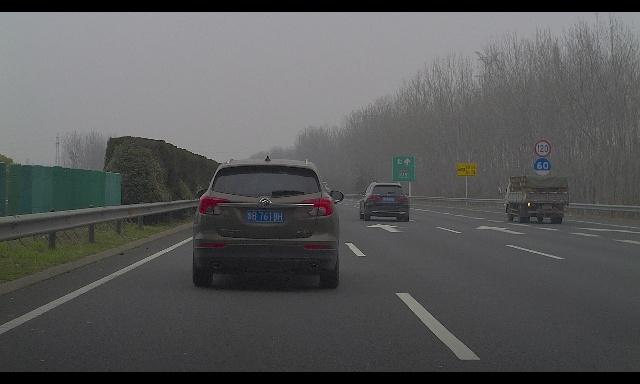car: (191, 155, 344, 289), (359, 182, 410, 222)
truck: (498, 175, 570, 224)
